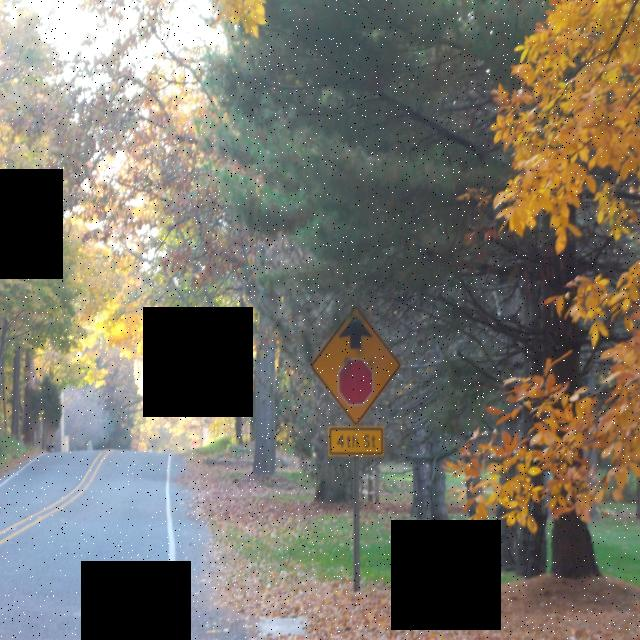warning: (310, 297, 405, 433), (324, 423, 390, 461)
